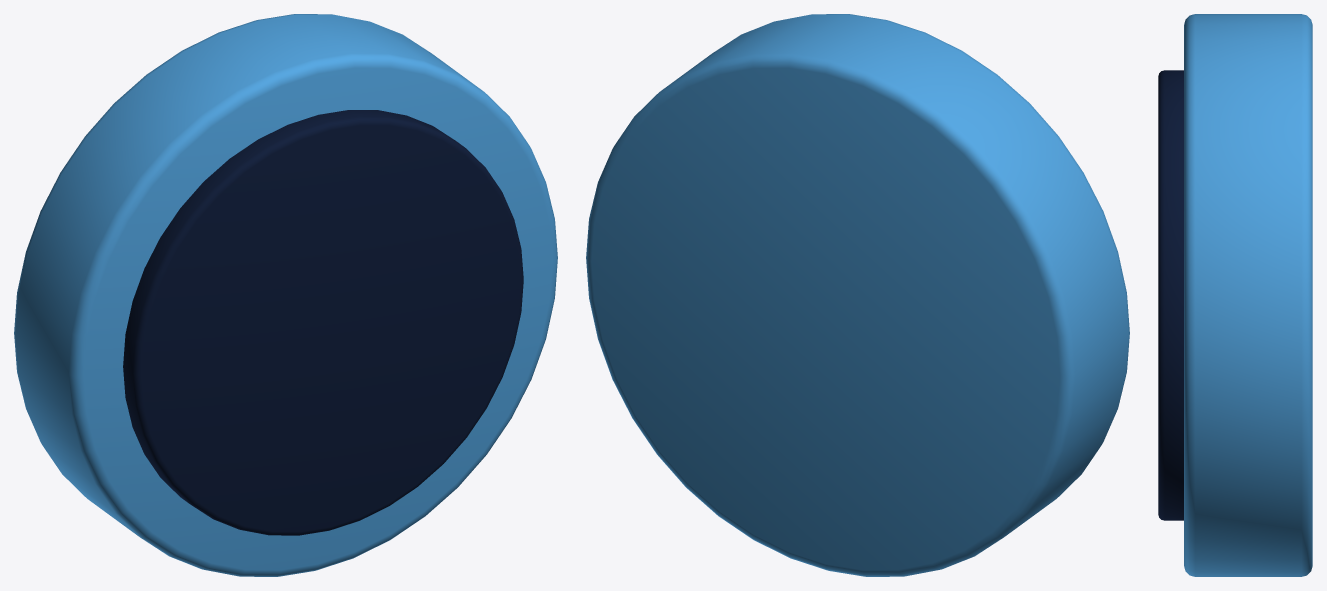
File: circulo-oscuro.glb
3 renders of one model, left to right at view 1: azimuth 30°, elevation 25°; view 2: azimuth 150°, elevation 25°; view 3: azimuth 270°, elevation 25°, orthographic.
Visible parts, largest first — view 1: placa, borde; view 2: borde; view 3: borde, placa.
Boxes of the visible parts, bbox=[...] form: placa: bbox=[123, 110, 523, 535]; borde: bbox=[14, 14, 557, 576]; borde: bbox=[586, 14, 1129, 576]; borde: bbox=[1184, 14, 1312, 576]; placa: bbox=[1158, 70, 1183, 520].
Size of the model in its own units: 0.7 by 0.7 by 0.192.
